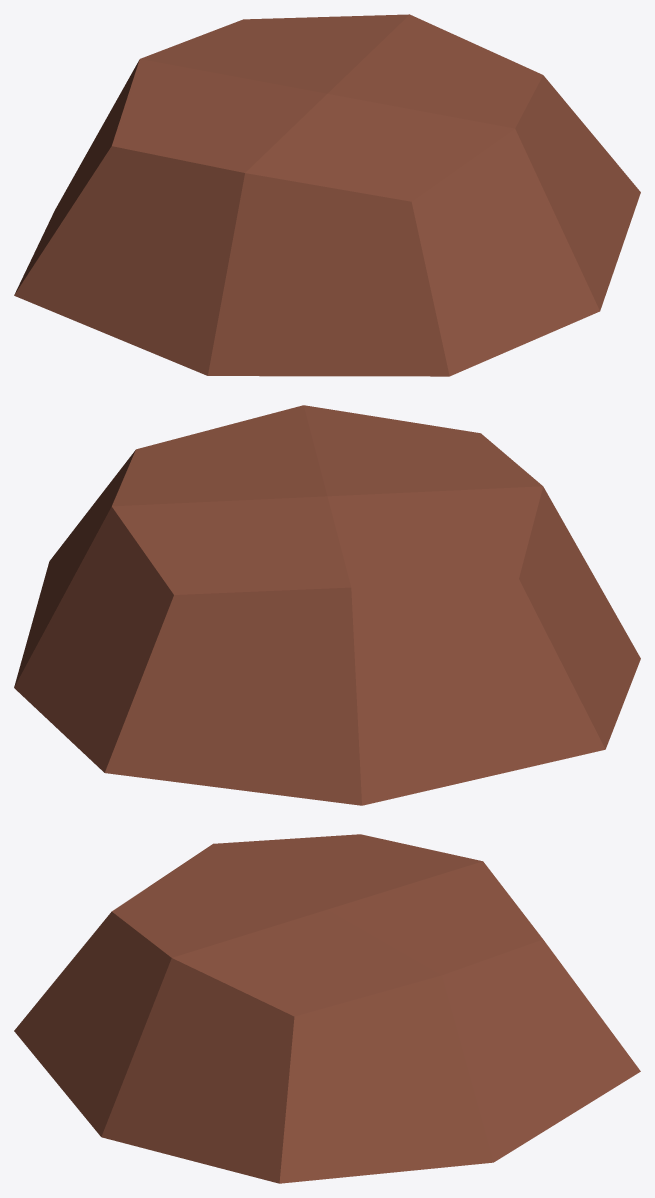
Rendered from SmallRock3.fbx.
The picture shows the model from 3 angles, top to bottom: view 1: azimuth 30°, elevation 25°; view 2: azimuth 150°, elevation 25°; view 3: azimuth 270°, elevation 25°; orthographic projection. The views are drawn at different scales.
Visible parts, largest first — view 1: Rock3.007; view 2: Rock3.007; view 3: Rock3.007.
Boxes of the visible parts, x1,y1,x2,y2 form: Rock3.007: (14,14,640,376); Rock3.007: (14,405,640,805); Rock3.007: (14,834,640,1183).
Size of the model in its own units: 9.02 by 2.5 by 9.02.
